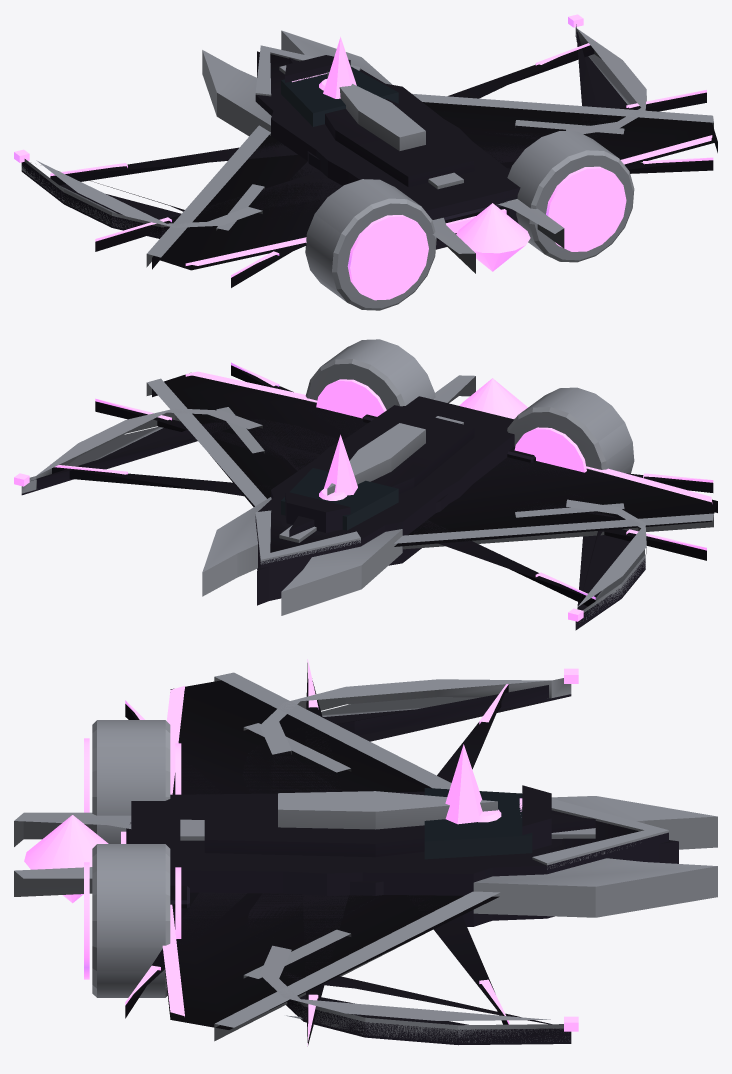
Rendered from hero-spectre-kit.glb.
3 renders of one model, top to bottom at view 1: azimuth 30°, elevation 25°; view 2: azimuth 150°, elevation 25°; view 3: azimuth 270°, elevation 25°, orthographic. The views are drawn at different scales.
Visible parts, largest first — view 1: hero_spectre_engines_b, hero_spectre_wings_a, hero_spectre_wings_b, hero_spectre_hull_b, hero_spectre_hull_c, hero_spectre_wings_c, hero_spectre_hull_a, hero_spectre_engines_c, hero_spectre_cockpit_c, hero_spectre_cockpit_b, hero_spectre_cockpit_a, hero_spectre_engines_a; view 2: hero_spectre_wings_a, hero_spectre_engines_b, hero_spectre_wings_b, hero_spectre_hull_b, hero_spectre_hull_a, hero_spectre_wings_c, hero_spectre_hull_c, hero_spectre_cockpit_c, hero_spectre_engines_c, hero_spectre_cockpit_a, hero_spectre_cockpit_b; view 3: hero_spectre_wings_a, hero_spectre_hull_b, hero_spectre_wings_b, hero_spectre_engines_b, hero_spectre_hull_c, hero_spectre_hull_a, hero_spectre_wings_c, hero_spectre_engines_c, hero_spectre_cockpit_c, hero_spectre_cockpit_a, hero_spectre_cockpit_b.
Boxes of the visible parts, x1=… form: hero_spectre_engines_b: x1=305, y1=131, x2=634, y2=310; hero_spectre_wings_a: x1=146, y1=93, x2=717, y2=270; hero_spectre_wings_b: x1=14, y1=14, x2=646, y2=238; hero_spectre_hull_b: x1=202, y1=30, x2=520, y2=249; hero_spectre_hull_c: x1=257, y1=51, x2=518, y2=248; hero_spectre_wings_c: x1=50, y1=40, x2=713, y2=287; hero_spectre_hull_a: x1=255, y1=45, x2=519, y2=249; hero_spectre_engines_c: x1=432, y1=199, x2=564, y2=273; hero_spectre_cockpit_c: x1=281, y1=66, x2=398, y2=126; hero_spectre_cockpit_b: x1=323, y1=37, x2=356, y2=98; hero_spectre_cockpit_a: x1=285, y1=55, x2=350, y2=90; hero_spectre_engines_a: x1=432, y1=201, x2=509, y2=240; hero_spectre_wings_a: x1=146, y1=371, x2=717, y2=549; hero_spectre_engines_b: x1=305, y1=339, x2=634, y2=473; hero_spectre_wings_b: x1=14, y1=409, x2=646, y2=630; hero_spectre_hull_b: x1=202, y1=396, x2=514, y2=615; hero_spectre_hull_a: x1=255, y1=396, x2=514, y2=600; hero_spectre_wings_c: x1=50, y1=362, x2=713, y2=606; hero_spectre_hull_c: x1=257, y1=411, x2=474, y2=605; hero_spectre_cockpit_c: x1=281, y1=468, x2=398, y2=530; hero_spectre_engines_c: x1=433, y1=375, x2=527, y2=419; hero_spectre_cockpit_a: x1=285, y1=488, x2=350, y2=532; hero_spectre_cockpit_b: x1=324, y1=434, x2=357, y2=495; hero_spectre_wings_a: x1=162, y1=672, x2=499, y2=1041; hero_spectre_hull_b: x1=131, y1=791, x2=717, y2=926; hero_spectre_wings_b: x1=242, y1=668, x2=578, y2=1045; hero_spectre_engines_b: x1=84, y1=720, x2=189, y2=997; hero_spectre_hull_c: x1=204, y1=791, x2=678, y2=895; hero_spectre_hull_a: x1=131, y1=791, x2=668, y2=920; hero_spectre_wings_c: x1=125, y1=659, x2=509, y2=1046; hero_spectre_engines_c: x1=14, y1=812, x2=131, y2=903; hero_spectre_cockpit_c: x1=424, y1=788, x2=532, y2=859; hero_spectre_cockpit_a: x1=478, y1=785, x2=551, y2=850; hero_spectre_cockpit_b: x1=445, y1=744, x2=482, y2=824.
Bounding box in the file's own units: 1.86 × 0.4194 × 1.44.
